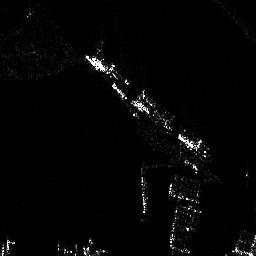ship: (137, 177, 148, 214)
